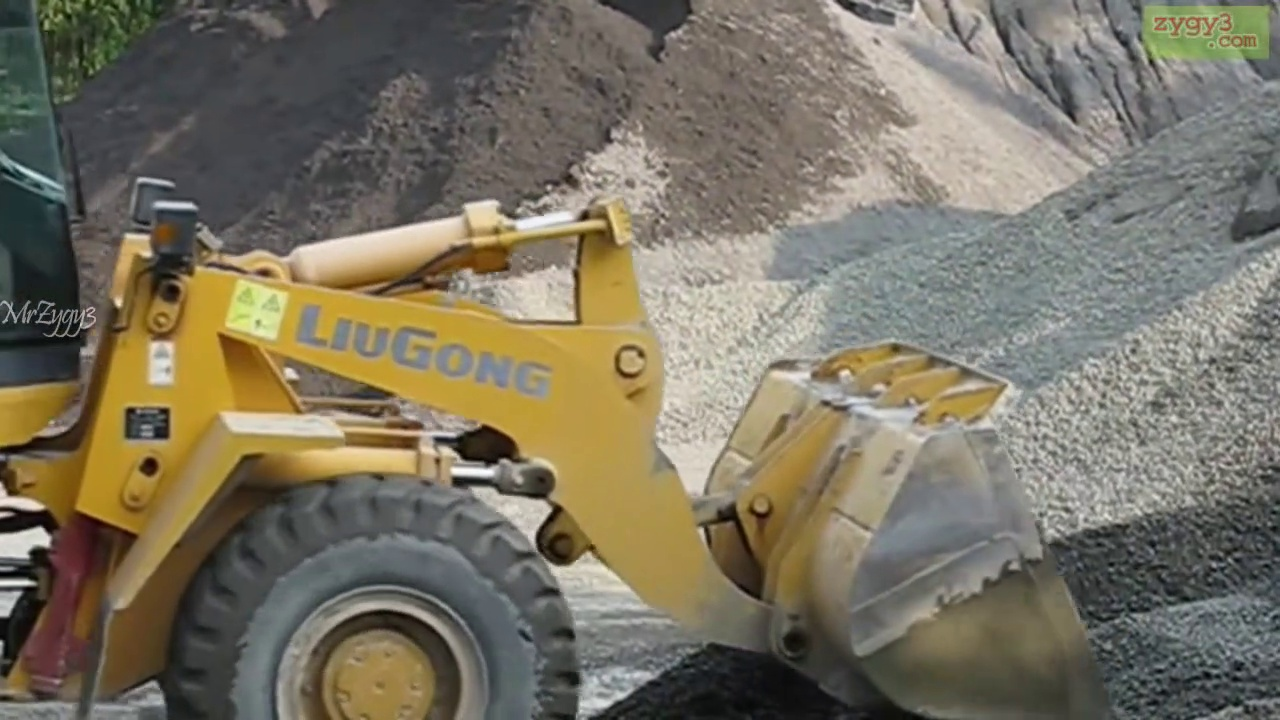wheel loader: (3, 7, 1116, 720)
